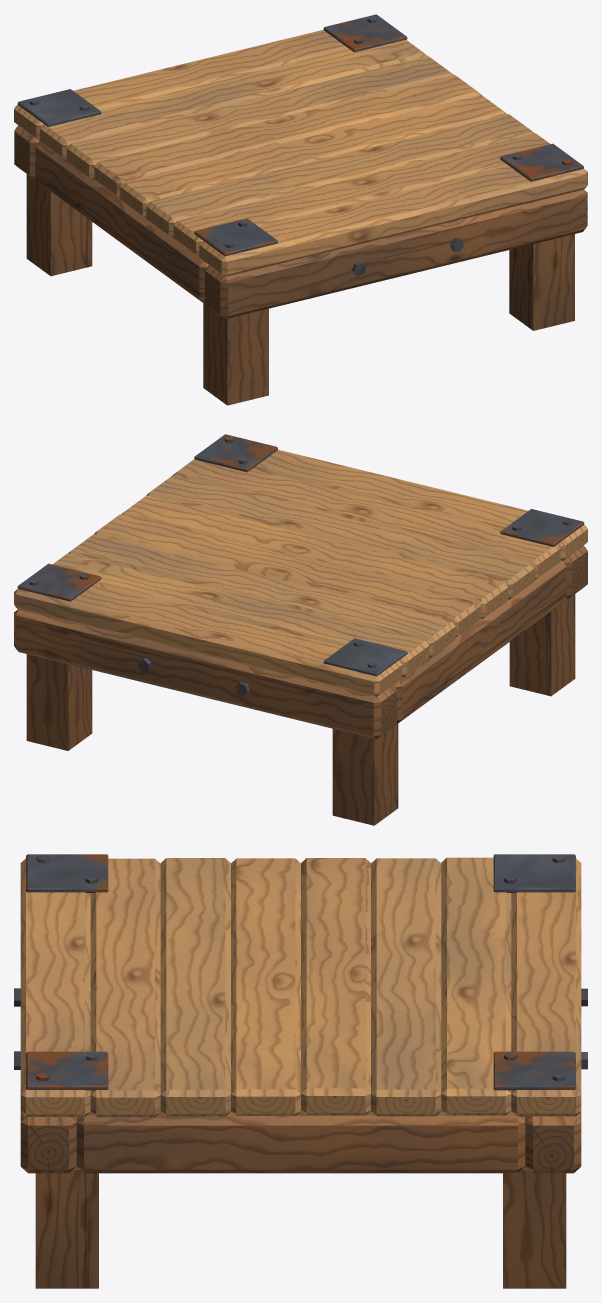
File: makine_platformu_kucuk.glb
3 renders of one model, top to bottom at view 1: azimuth 30°, elevation 25°; view 2: azimuth 150°, elevation 25°; view 3: azimuth 270°, elevation 25°, orthographic. The views are drawn at different scales.
Visible parts, largest first — view 1: makine_platformu_kucuk; view 2: makine_platformu_kucuk; view 3: makine_platformu_kucuk.
Boxes of the visible parts, <box> form: makine_platformu_kucuk: <box>14,14,587,405</box>; makine_platformu_kucuk: <box>14,434,587,825</box>; makine_platformu_kucuk: <box>14,854,587,1288</box>.
Bounding box in the file's own units: 3 × 1.24 × 3.07.
1 material, 1 textured.
